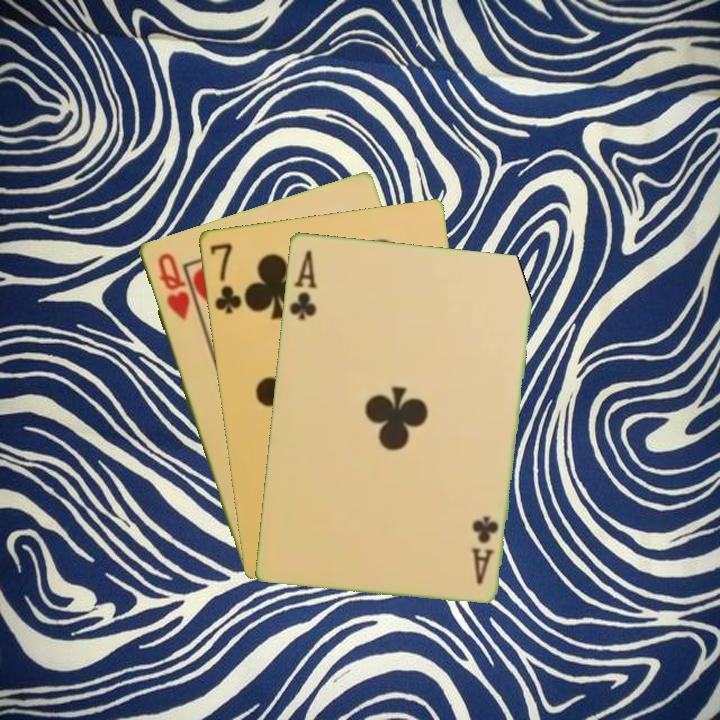7c: (206, 239, 244, 316)
Ac: (285, 246, 320, 322), (468, 512, 501, 588)
Qh: (154, 249, 192, 323)
